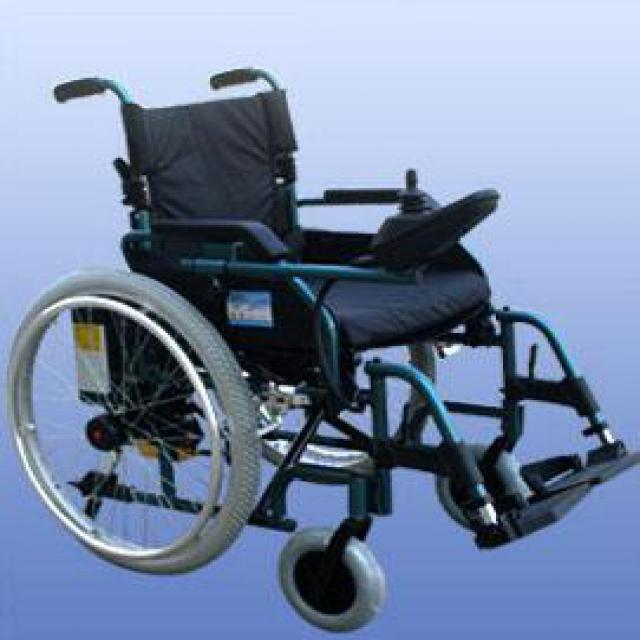wheelchair: (2, 54, 638, 634)
